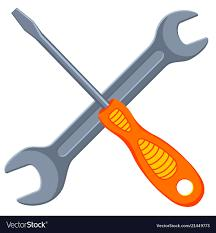screwdriver: (9, 5, 204, 206)
